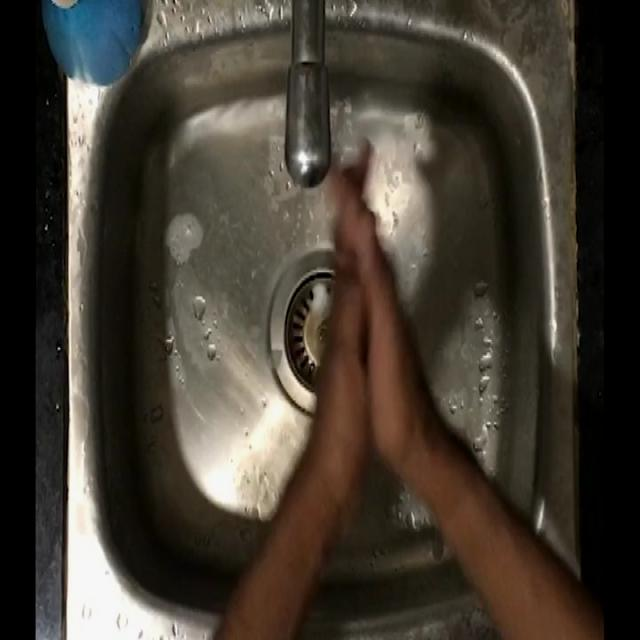step_1: (295, 121, 428, 472)
